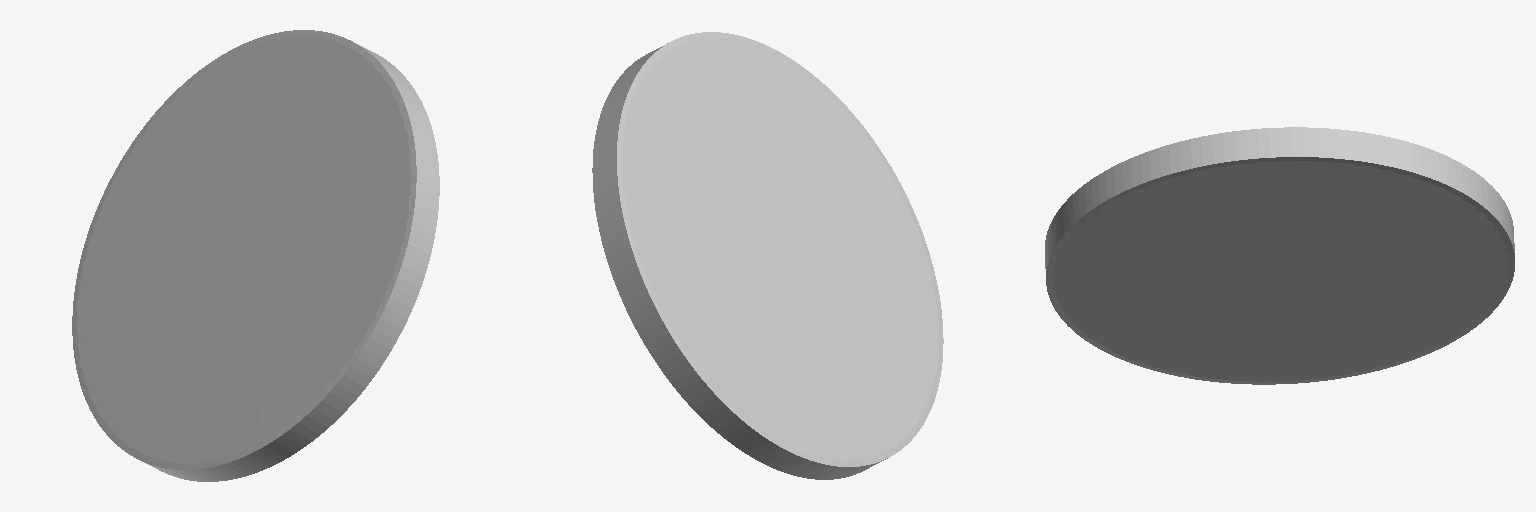
The model's file is Coin.obj.
3 views of the same model, side by side, from view 1: azimuth 30°, elevation 25°; view 2: azimuth 150°, elevation 25°; view 3: azimuth 270°, elevation 25° (orthographic).
Visible parts, largest first — view 1: Cylinder; view 2: Cylinder; view 3: Cylinder.
Boxes of the visible parts, x1=… form: Cylinder: x1=72, y1=30, x2=439, y2=481; Cylinder: x1=592, y1=32, x2=943, y2=479; Cylinder: x1=1045, y1=127, x2=1514, y2=384.
Size of the model in its own units: 1.29 by 1.7 by 2.